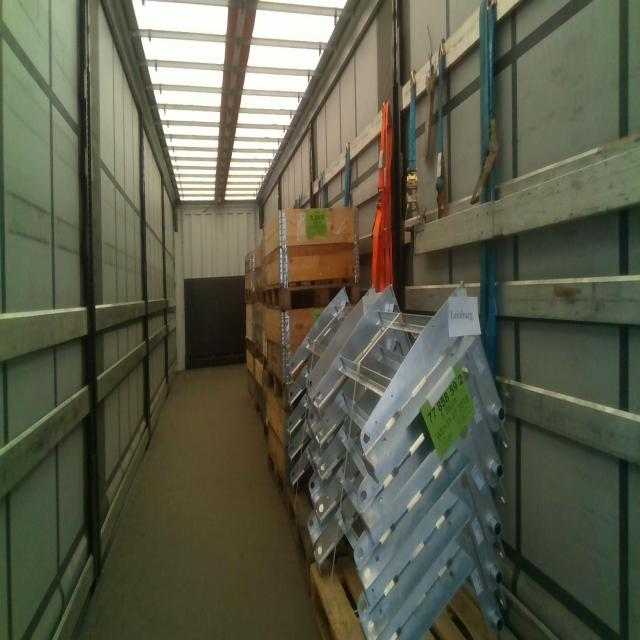pallet: (308, 558, 510, 638), (263, 277, 359, 312), (287, 486, 312, 569), (267, 449, 286, 499), (267, 368, 285, 409), (252, 288, 275, 310), (261, 414, 269, 447), (253, 345, 262, 372), (255, 398, 262, 428), (244, 340, 255, 356), (243, 289, 255, 303), (247, 386, 255, 404), (263, 357, 268, 383)
